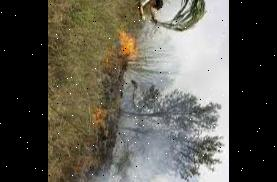fire: (112, 27, 146, 60)
